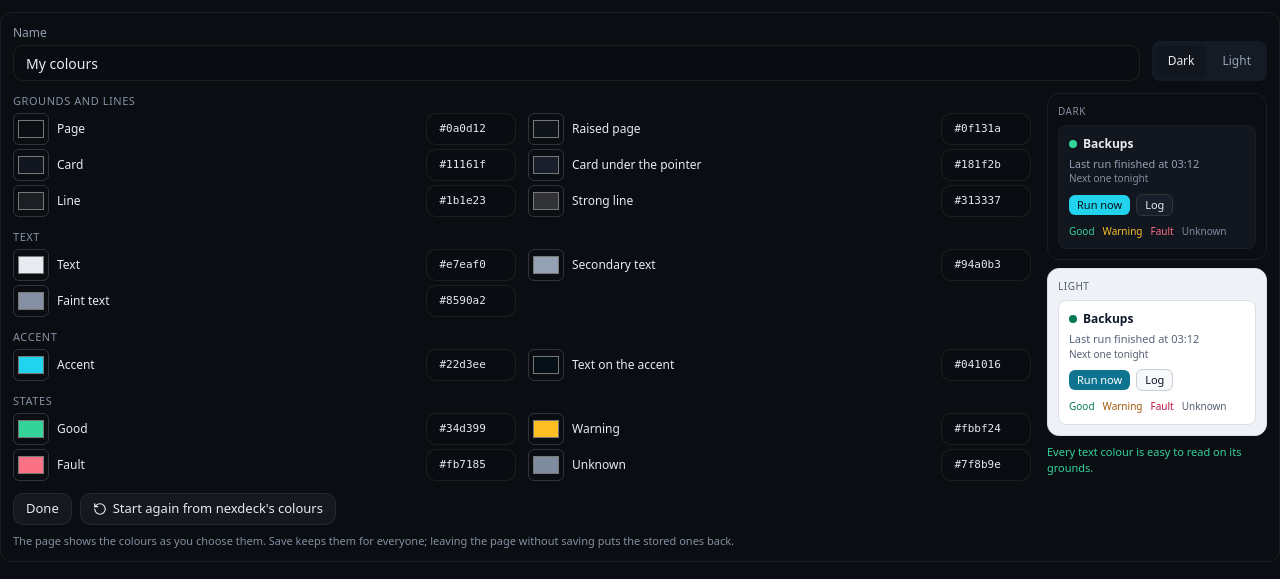
the theme editor › names a colour hard to read where it is picked, by the rule of the server
expect the text "Every text colour is easy to read on its grounds." is shown: met, box [1047,444,1267,476]
In the colour field named "Faint text": {"x": 31, "y": 301} [13,285,49,317], type "#333a44"
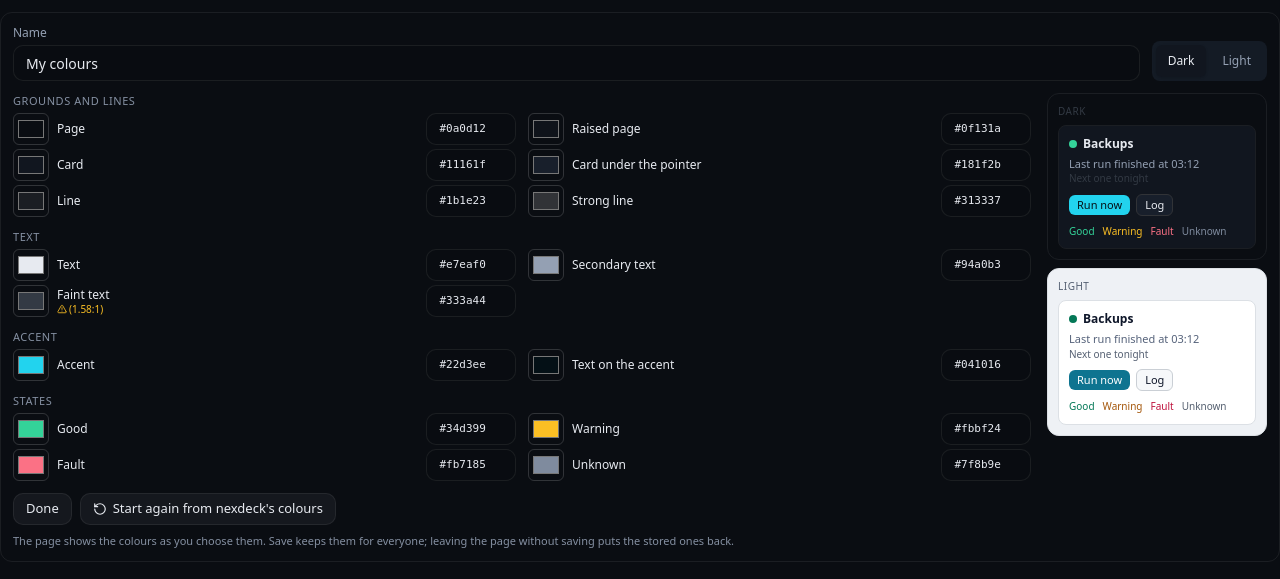
expect the element with test id "weak-text-faint" reads "(1.58:1)": met, box [69,302,103,316]
